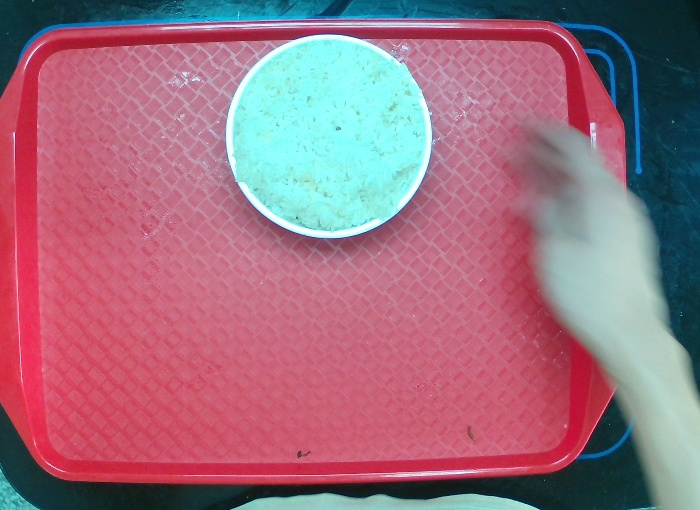YKMZ-Fan_Wan: (217, 29, 436, 255)
